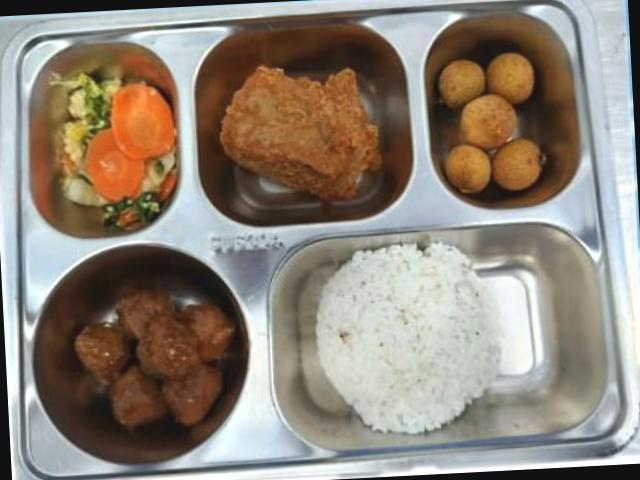bakso: (74, 289, 239, 429)
buah: (445, 52, 535, 193)
nasi: (316, 243, 501, 434)
sayur: (50, 72, 177, 229)
tempe: (220, 66, 382, 201)
